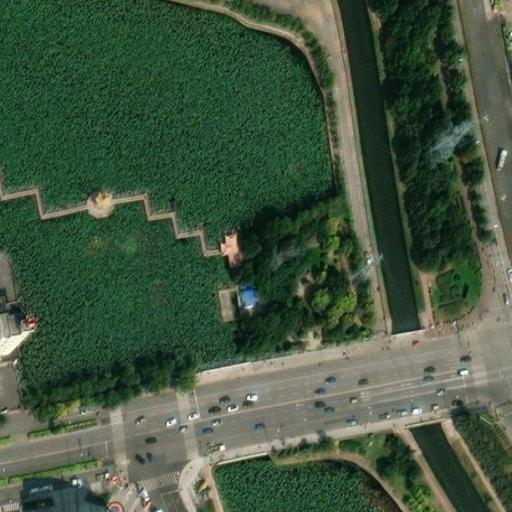building: (21, 482, 108, 512), (217, 226, 243, 267), (210, 283, 236, 321), (0, 360, 20, 409), (233, 281, 260, 310)
